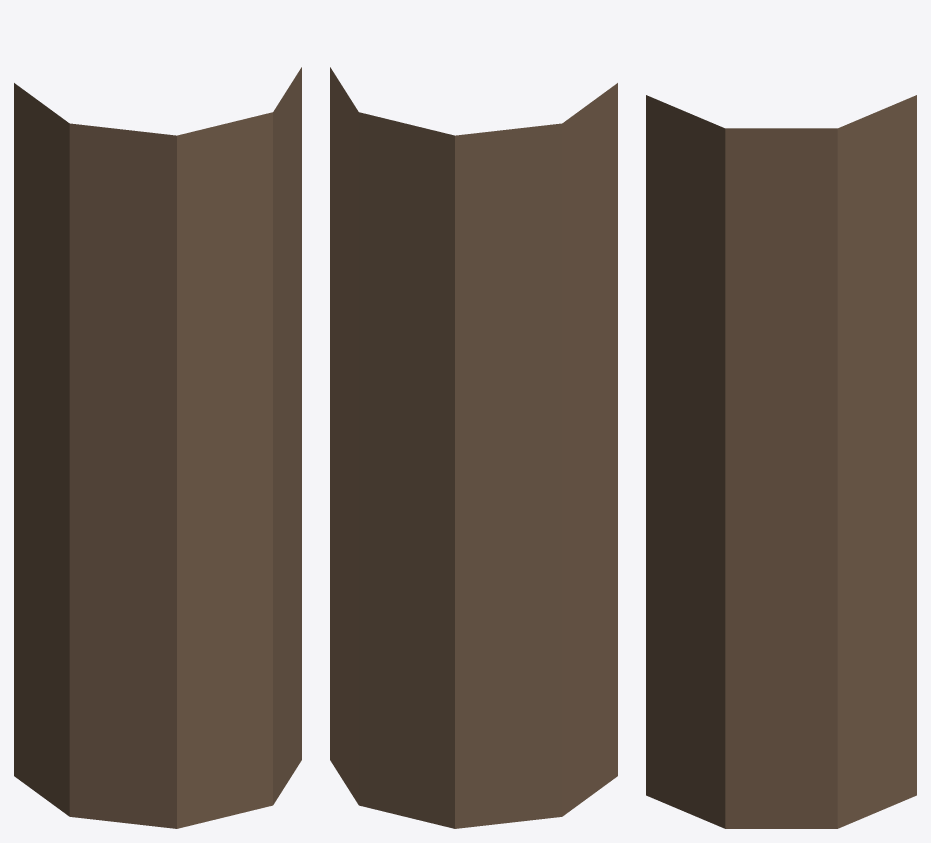
Rendered from Hilly_Prop_Bridge_Log_Post_Top.glb.
3 renders of one model, left to right at view 1: azimuth 30°, elevation 25°; view 2: azimuth 150°, elevation 25°; view 3: azimuth 270°, elevation 25°, orthographic.
Parts seen in each view (by area): view 1: Hilly_Prop_Bridge_Log_Post_Top; view 2: Hilly_Prop_Bridge_Log_Post_Top; view 3: Hilly_Prop_Bridge_Log_Post_Top.
Boxes of the visible parts, x1,y1,x2,y2 form: Hilly_Prop_Bridge_Log_Post_Top: (14,67,301,828); Hilly_Prop_Bridge_Log_Post_Top: (330,67,617,828); Hilly_Prop_Bridge_Log_Post_Top: (646,95,916,828).
Size of the model in its own units: 0.2 by 0.5707 by 0.2.
